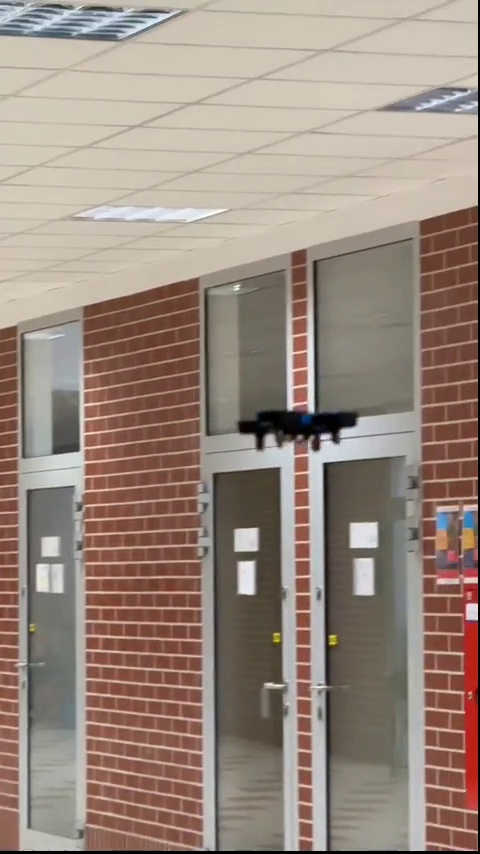drone: (238, 413, 365, 452)
